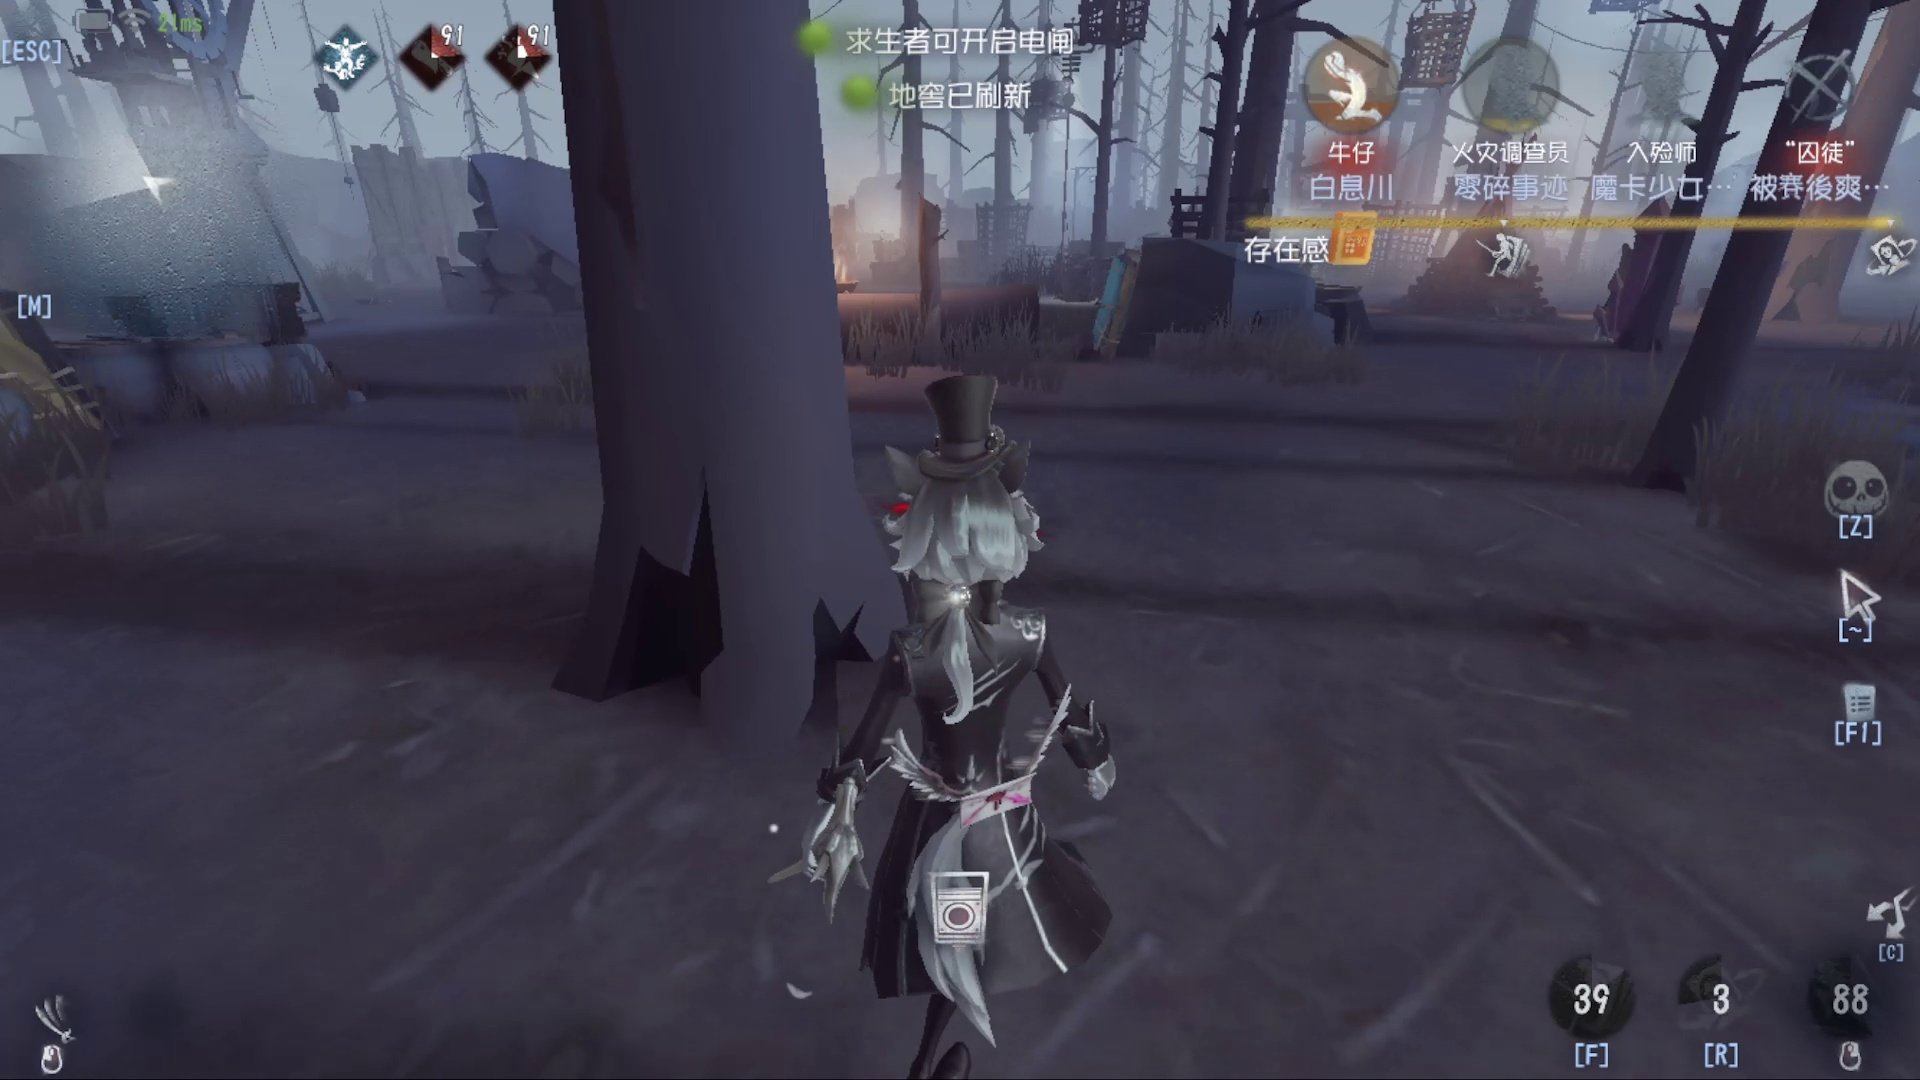木板: (1069, 233, 1145, 355)
